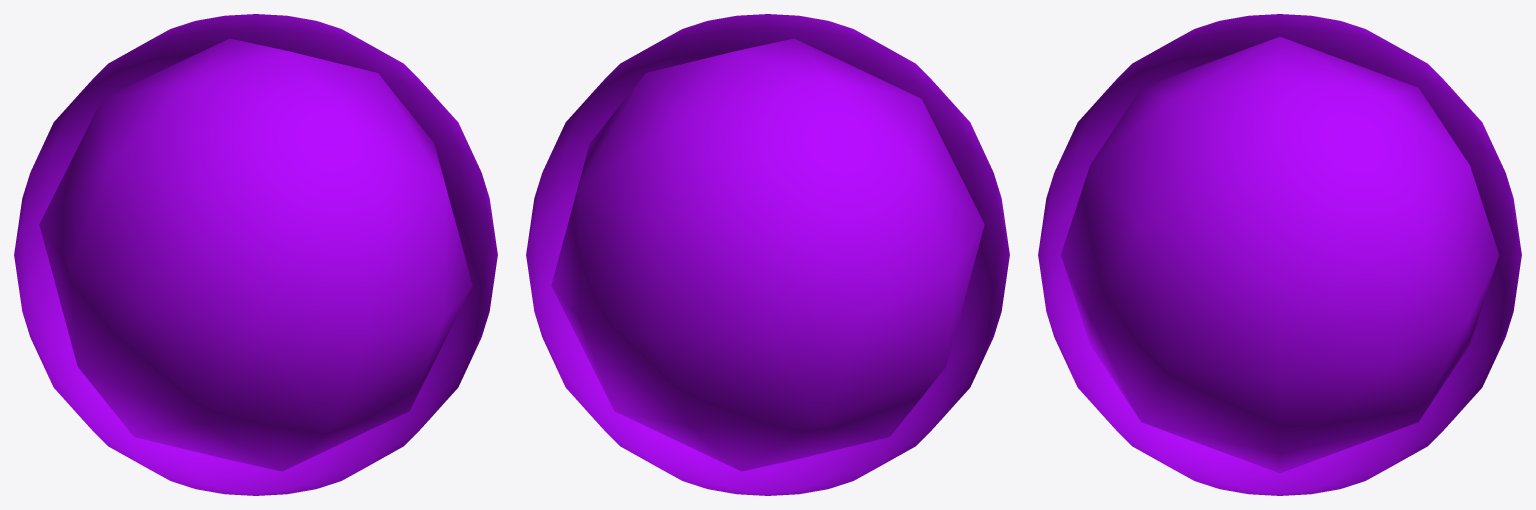
The model's file is chain_lightning.glb.
The picture shows the model from 3 angles, left to right: view 1: azimuth 30°, elevation 25°; view 2: azimuth 150°, elevation 25°; view 3: azimuth 270°, elevation 25°; orthographic projection.
Parts seen in each view (by area): view 1: 闪电节点球; view 2: 闪电节点球; view 3: 闪电节点球.
Part boxes in pixels (x1,y1,x2,y2): 闪电节点球: (14,14,497,495); 闪电节点球: (526,14,1009,495); 闪电节点球: (1038,14,1521,495).
Size of the model in its own units: 55.33 by 55.33 by 55.33.
